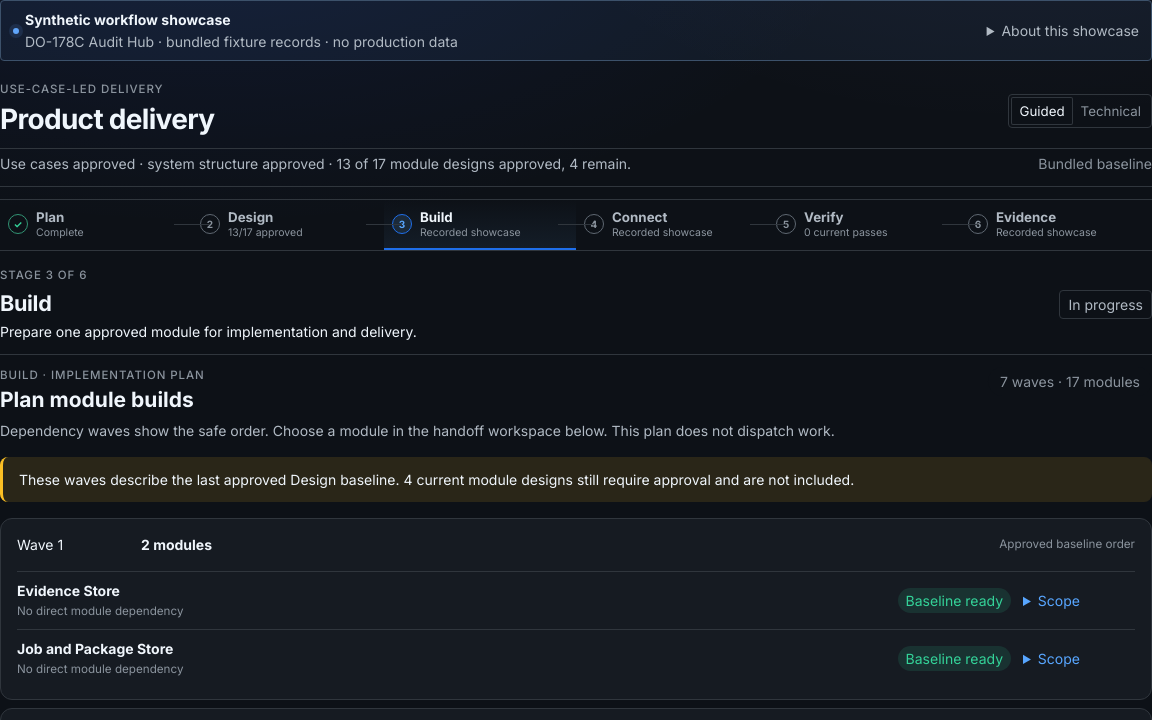
it: BuildHandoffView — one-module implementation handoff (§11.2, §11.3, §6.2) › "Create implementation handoff" produces a packet summary in the DOM for exactly one module
Click the button "3 Build Recorded showcase" at (480, 225), box x1=384 y1=200 x2=576 y2=250
(page scrolled)
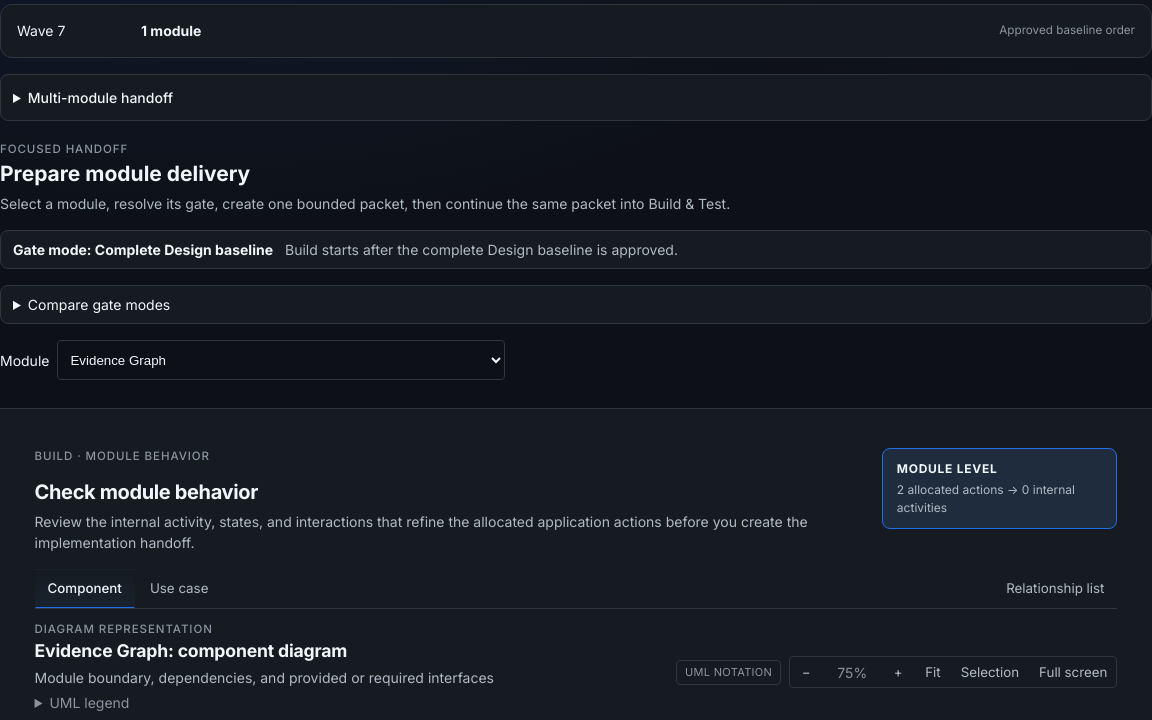
Select "Evidence Store" in the dropdown labelled "Module" at (282, 360), box x1=58 y1=340 x2=506 y2=380
(page scrolled)
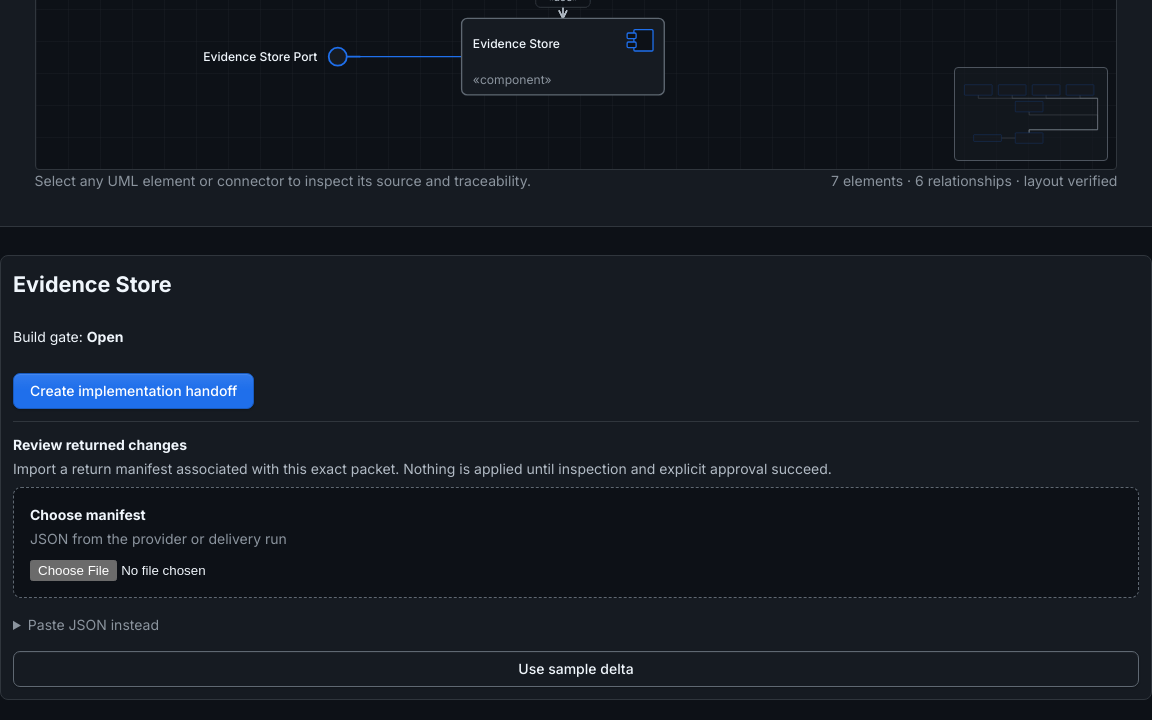
Click the button "Create implementation handoff" at (134, 391), box x1=13 y1=373 x2=254 y2=409
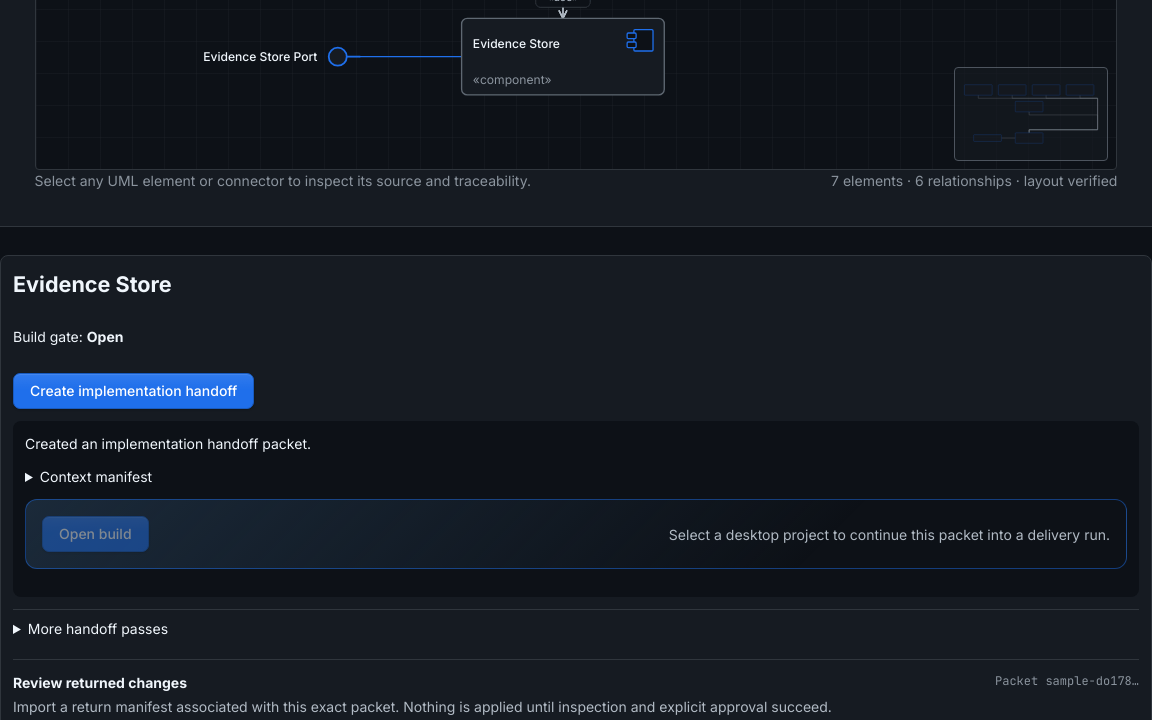
Now the message with class "design-handoff-result" is shown, box x1=13 y1=421 x2=1139 y2=597
Now the heading "Context manifest" is shown, box x1=40 y1=468 x2=152 y2=485
